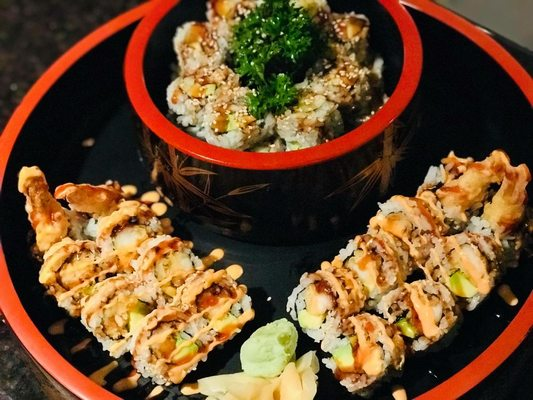curry: (226, 0, 327, 121), (227, 0, 325, 86)
sushi: (120, 0, 426, 173)
